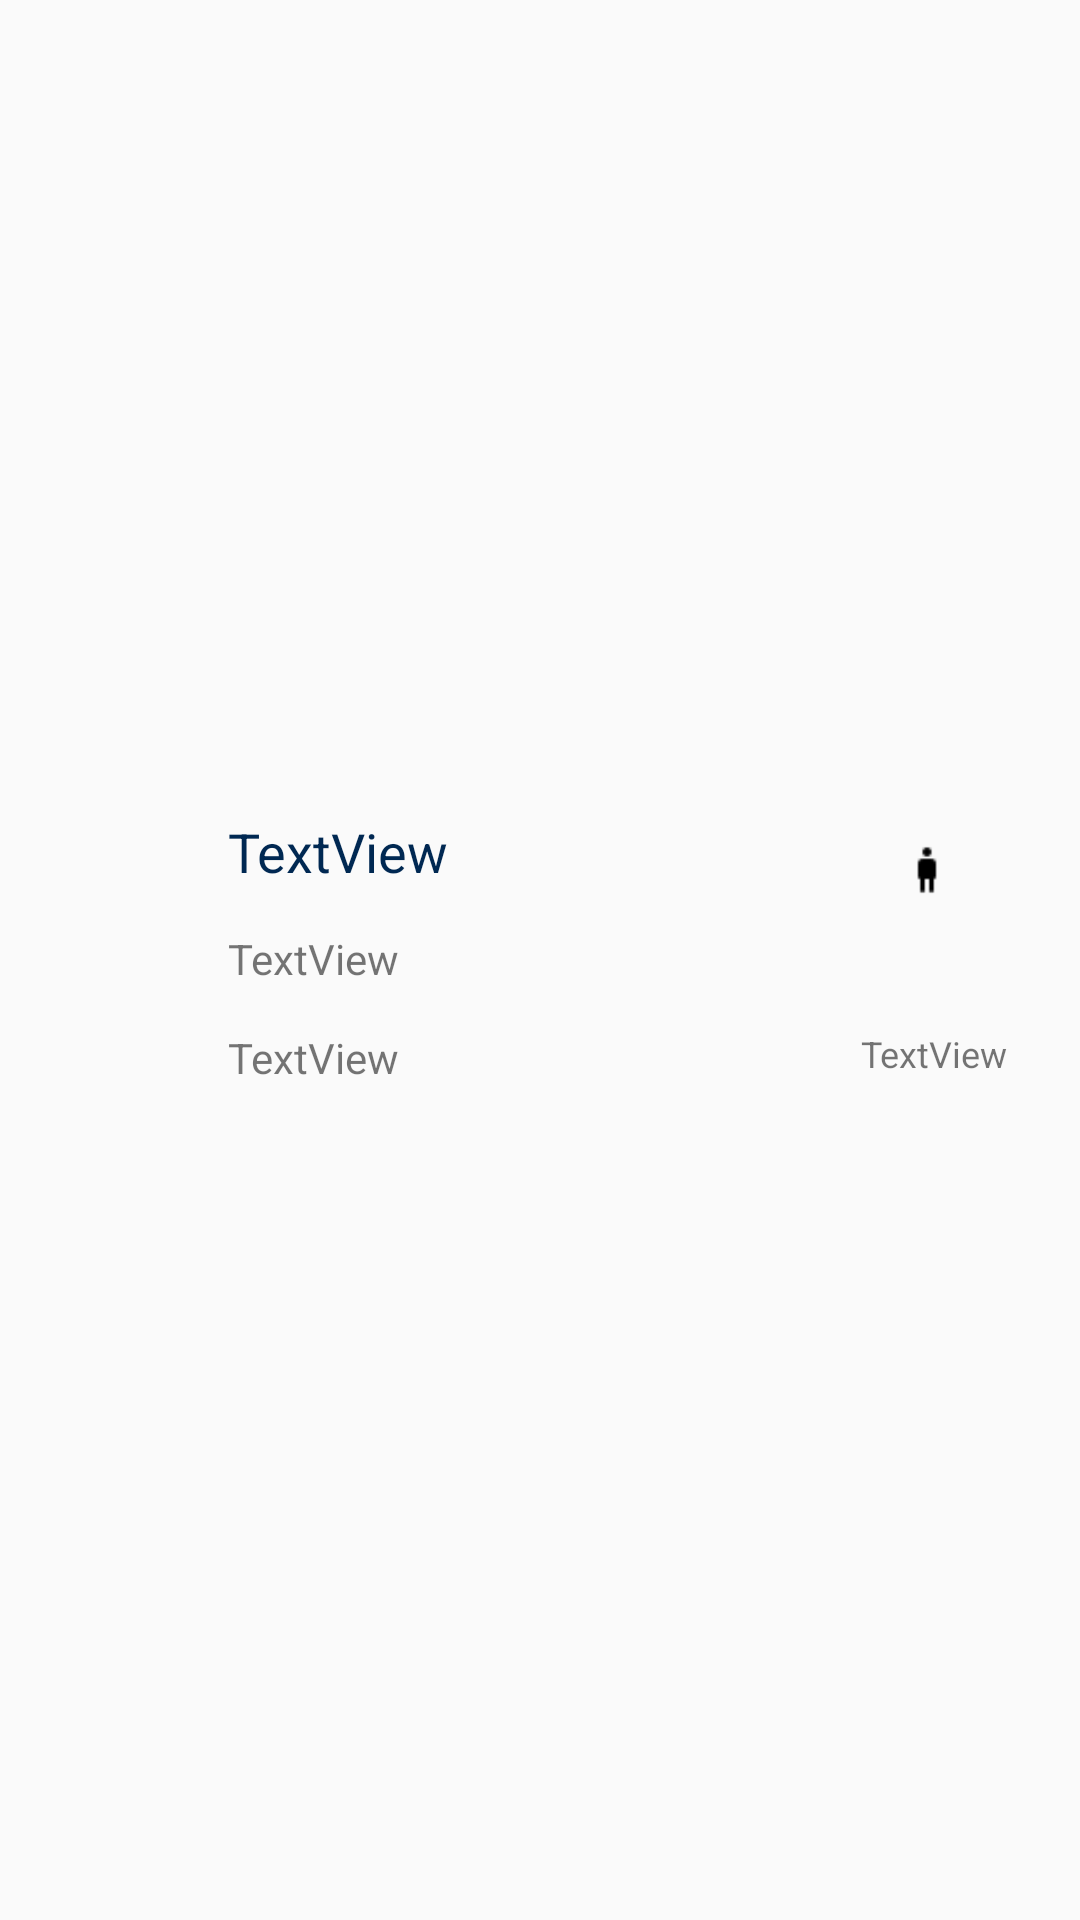

Icons on this 1080px x 1920px Android screen, each with the point to tap as point (x, y):
adult: point (927, 870)
